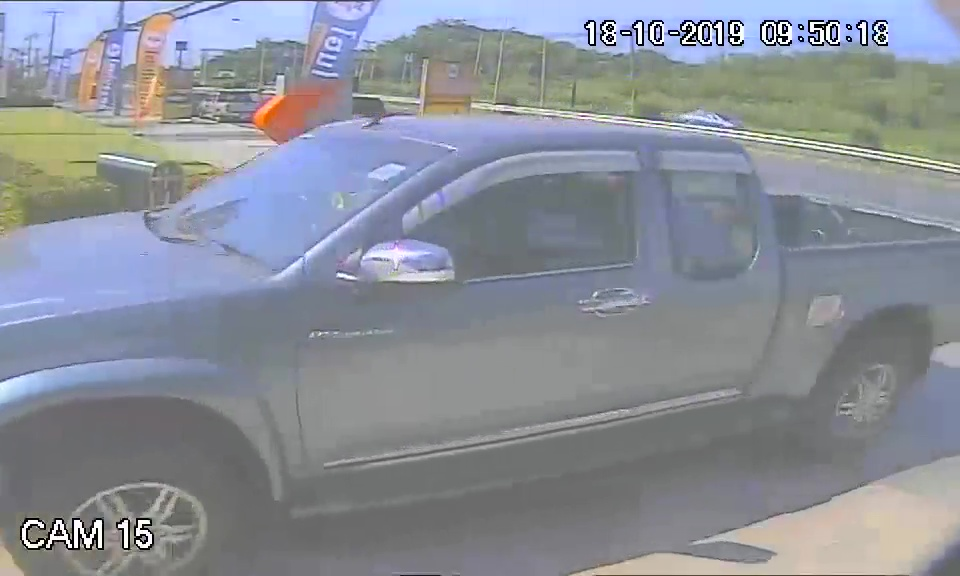pickup: (2, 115, 960, 509)
